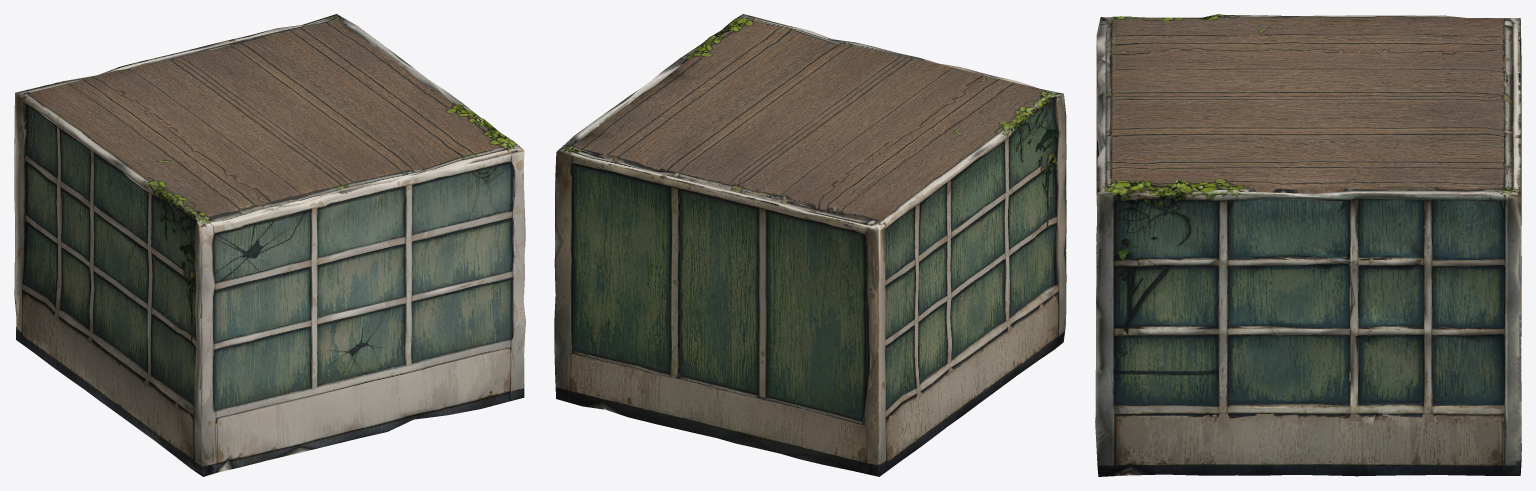
Rendered from EX_Lab_GlassWall.fbx.
3 views of the same model, side by side, from view 1: azimuth 30°, elevation 25°; view 2: azimuth 150°, elevation 25°; view 3: azimuth 270°, elevation 25° (orthographic). The views are drawn at different scales.
Visible parts, largest first — view 1: texture_mapping; view 2: texture_mapping; view 3: texture_mapping.
Part boxes in pixels (x1=…): texture_mapping: x1=14, y1=14, x2=525, y2=476; texture_mapping: x1=554, y1=14, x2=1066, y2=476; texture_mapping: x1=1095, y1=14, x2=1521, y2=476.
Size of the model in its own units: 0.9974 by 1 by 0.7532.
1 material, 1 textured.
